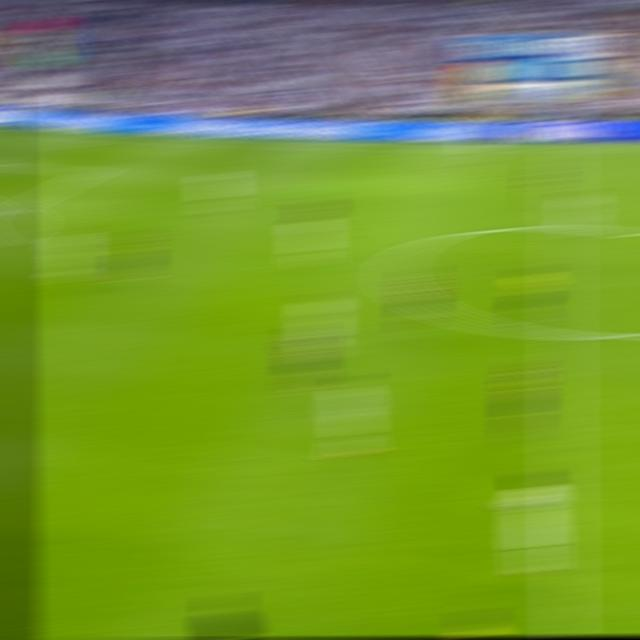halfcircle_bottom: (546, 319, 577, 347)
halfcircle_top: (548, 216, 577, 238)
midline_top_intersection: (549, 142, 576, 155)
top_arc_area_intersection: (0, 202, 25, 216)
